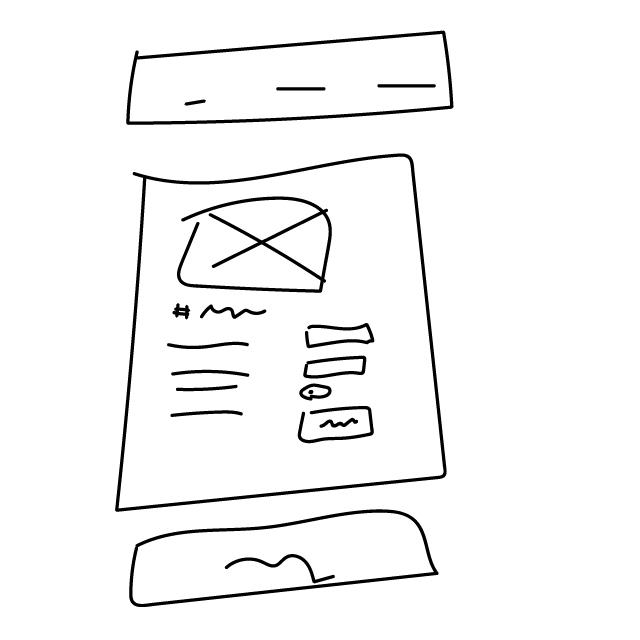button: (298, 406, 379, 447)
checkbox: (300, 383, 334, 404)
container: (105, 148, 459, 515)
footer: (128, 507, 456, 608)
frame: (176, 196, 339, 296)
heading: (172, 302, 275, 325)
input: (302, 318, 378, 350), (301, 355, 373, 381)
nav: (125, 27, 461, 127)
text: (162, 336, 255, 426)
